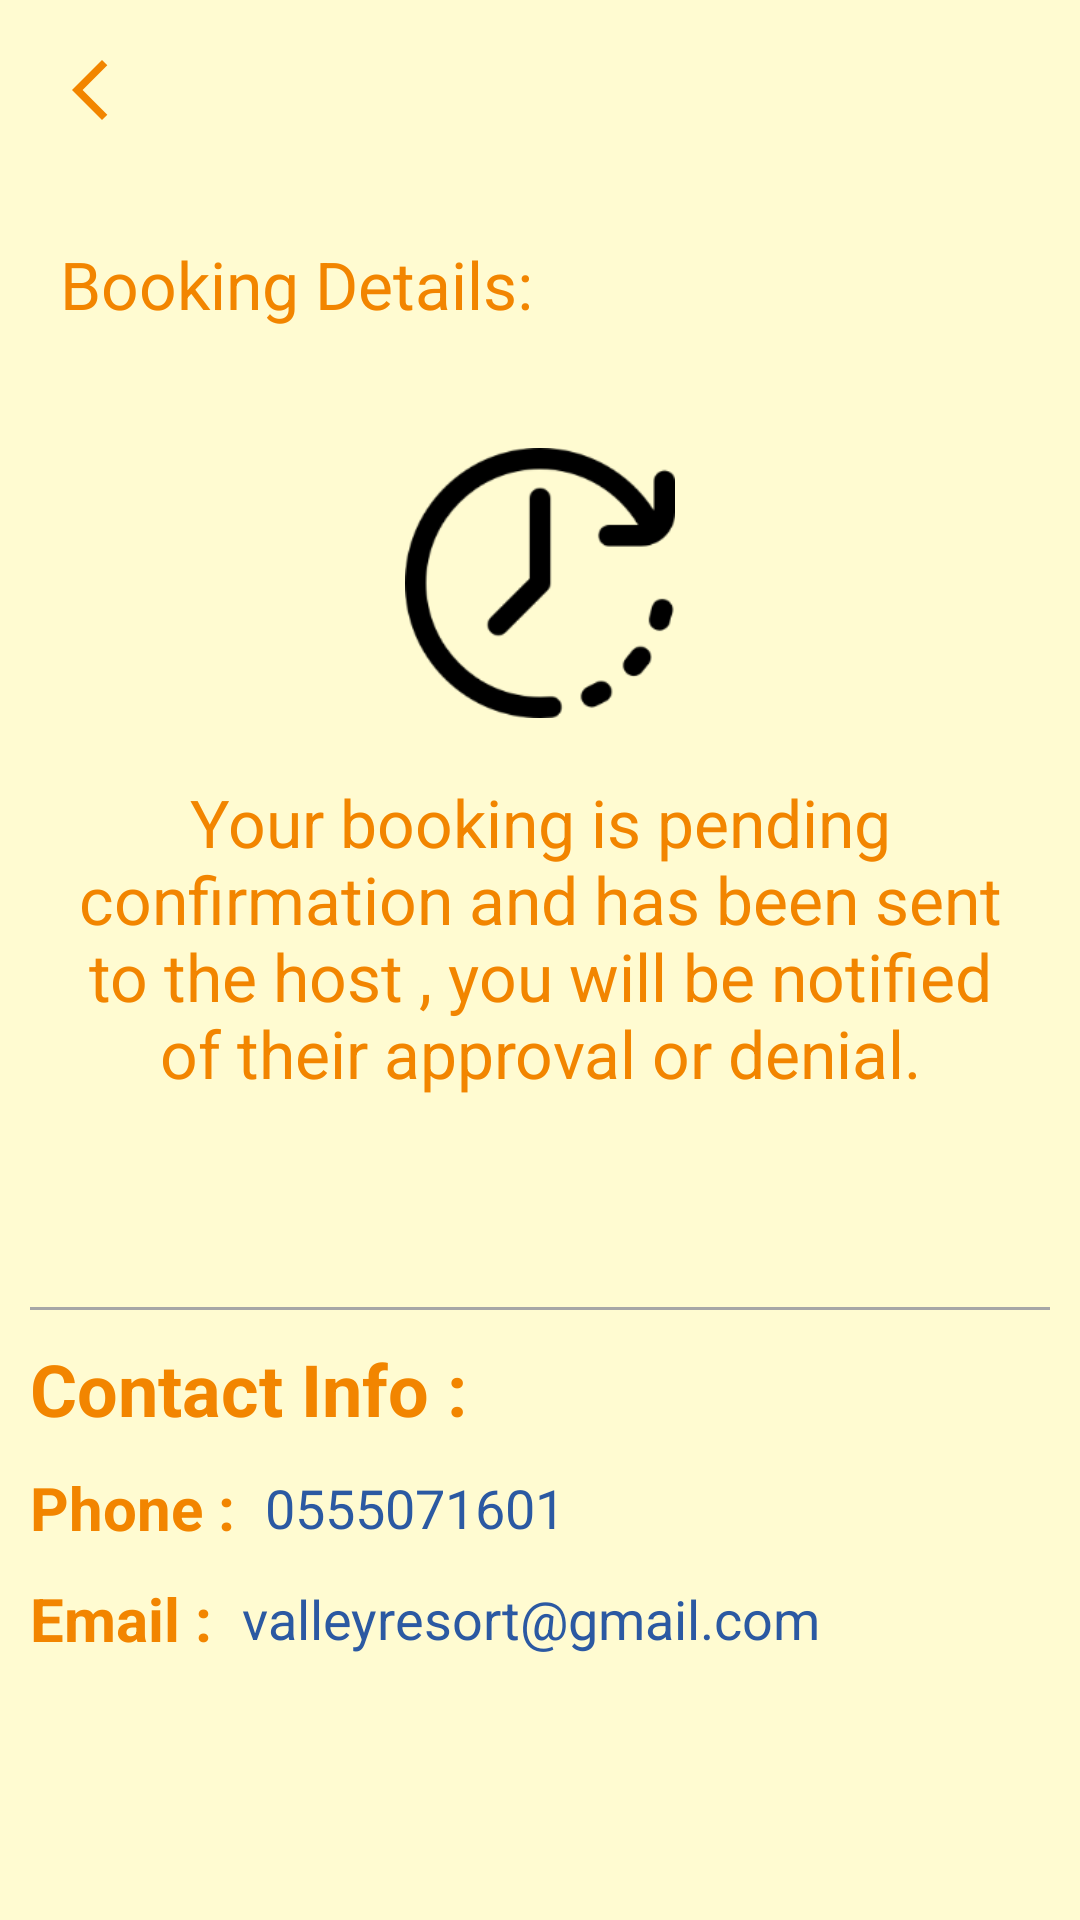

Icon click points for this 1080x1920 phone screenshot, format (x,y):
back: (89,90)
